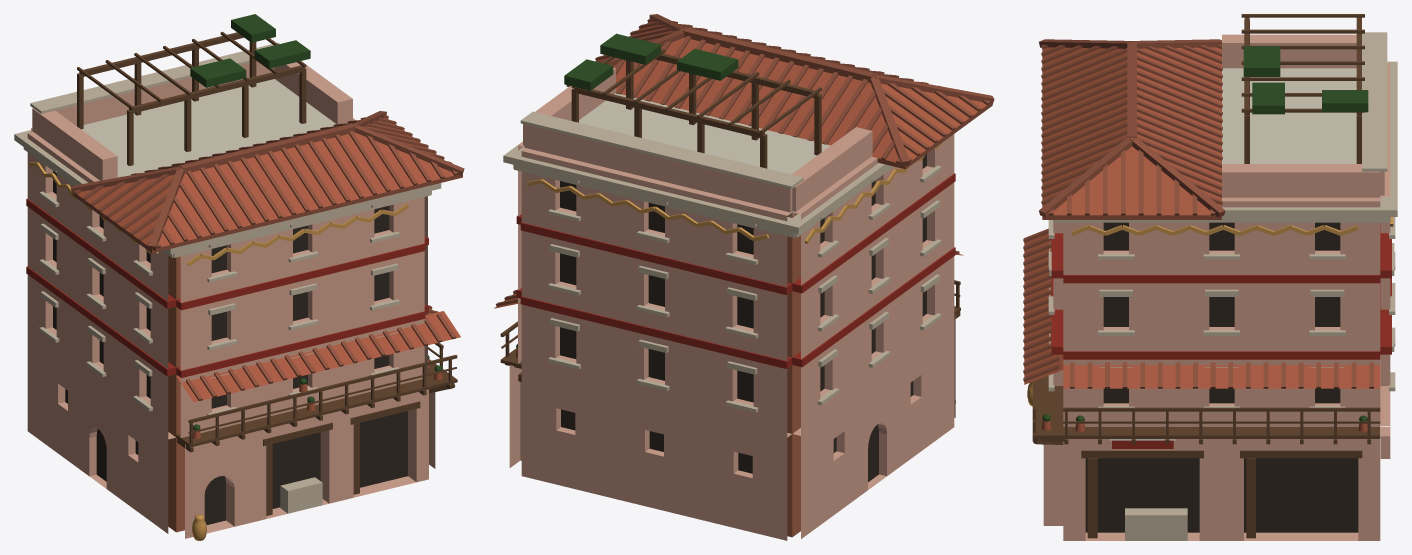
File: rome_insula_b.glb
3 renders of one model, left to right at view 1: azimuth 30°, elevation 25°; view 2: azimuth 150°, elevation 25°; view 3: azimuth 270°, elevation 25°, orthographic. The views are drawn at different scales.
Parts seen in each view (by area): view 1: rome_insula_b; view 2: rome_insula_b; view 3: rome_insula_b.
Part boxes in pixels (x1,y1,x2,y2): rome_insula_b: (14, 14, 464, 540); rome_insula_b: (494, 14, 994, 540); rome_insula_b: (1023, 14, 1397, 540).
Bounding box in the file's own units: 14.66 × 16.25 × 13.36.
